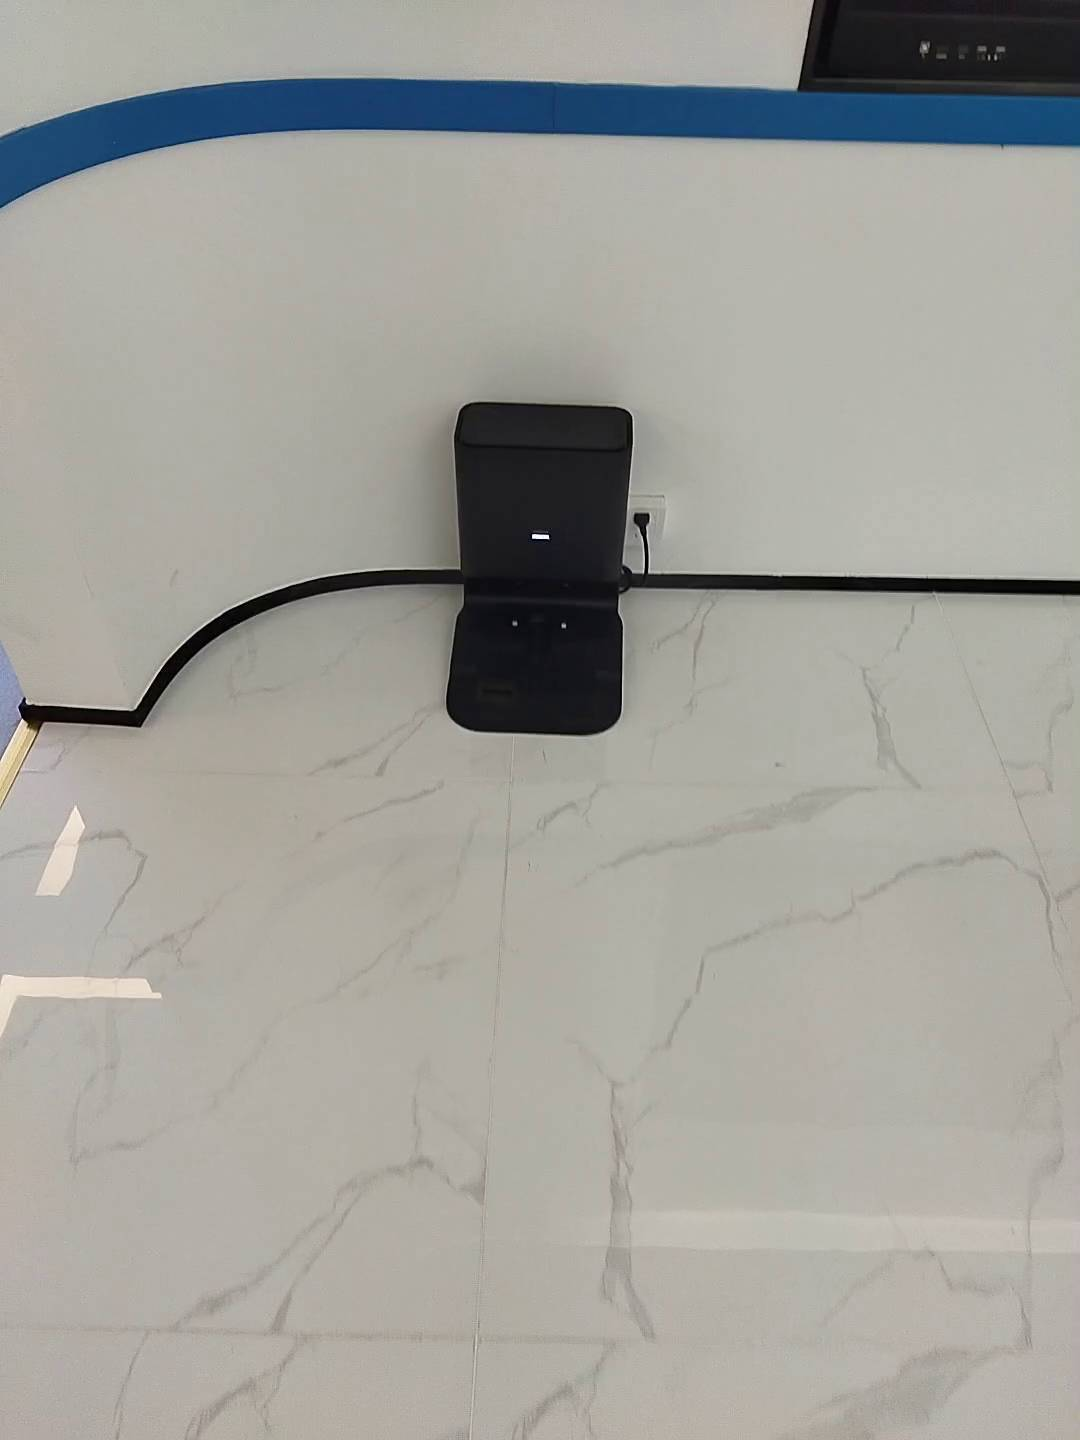dust collecting barrel: (447, 399, 634, 735)
